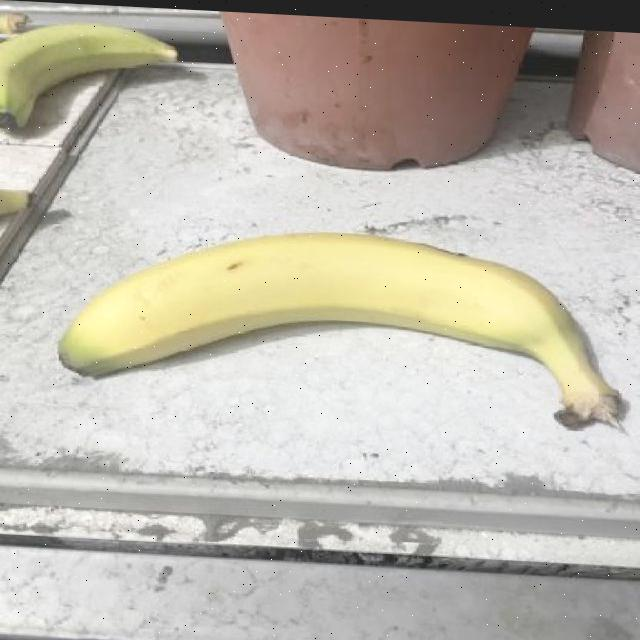banana: (51, 210, 634, 437), (0, 4, 185, 154)
